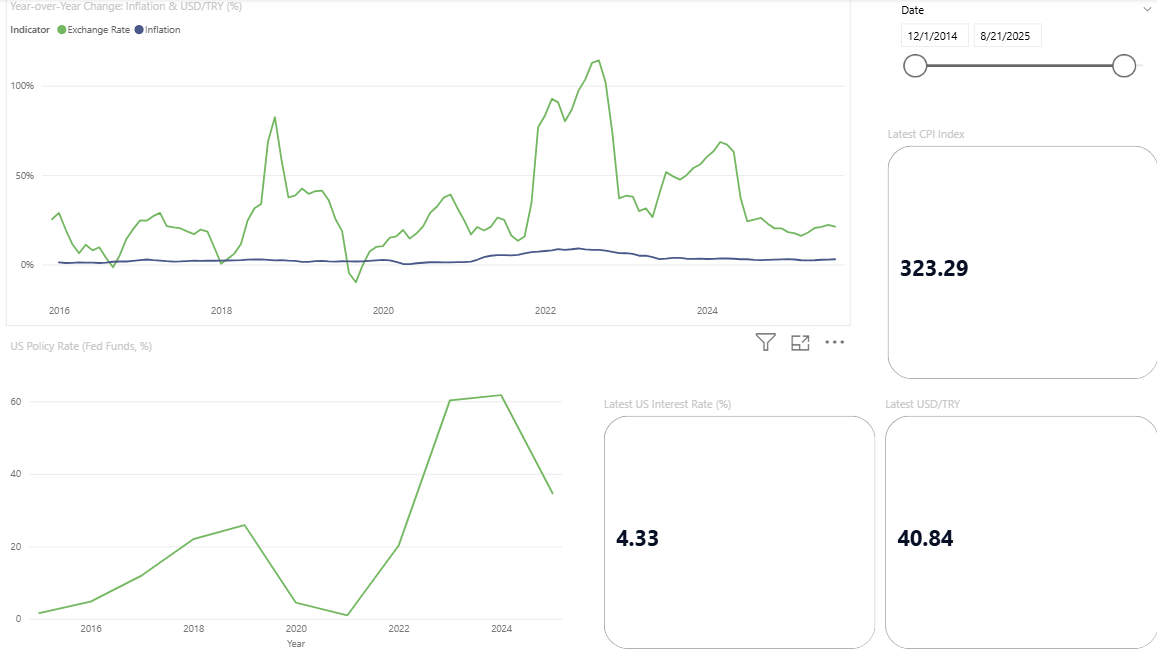

This screenshot's page, from the dashboard's own definition file:
{"tool":"powerbi","page":{"name":"Overview","canvas":[1280,720],"ordinal":0},"visuals":[{"type":"lineChart","title":"Year-over-Year Change: Inflation & USD/TRY (%)","fields":{"Series":["market_data.Indicator"],"Category":["DimDate.Date"],"Y":["market_data.YoY %"]},"box":[9.6,0,927.6,359.5],"z":0},{"type":"lineChart","title":"US Policy Rate (Fed Funds, %)","fields":{"Category":["DimDate.Date.Variation.Date Hierarchy.Year","DimDate.Date.Variation.Date Hierarchy.Quarter","DimDate.Date.Variation.Date Hierarchy.Month","DimDate.Date.Variation.Date Hierarchy.Day"],"Y":["market_data.Total Value"]},"box":[9.6,373.2,617.5,347.2],"z":1000},{"type":"cardVisual","title":"Latest USD/TRY","fields":{"Data":["market_data.Latest Value"]},"box":[969.9,437.3,310.1,282.7],"z":2000},{"type":"cardVisual","title":"Latest US Interest Rate (%)","fields":{"Data":["market_data.Latest Value"]},"box":[661.1,437.3,308.7,282.7],"z":3000},{"type":"cardVisual","title":"Latest CPI Index","fields":{"Data":["market_data.Latest Value"]},"box":[972.9,141.3,307.4,282.7],"z":4000},{"type":"slicer","fields":{"Values":["DimDate.Date"]},"box":[979.2,0,300.8,126.9],"z":5000}]}

Visuals, with their boxes in screenshot pixels (x1, y1, x2, y2), scaled from the page's 1280x720 canvas onto the 1157x652 screenshot:
"Year-over-Year Change: Inflation & USD/TRY (%)" lineChart: Rect(9, 0, 847, 326)
"US Policy Rate (Fed Funds, %)" lineChart: Rect(9, 338, 567, 651)
"Latest USD/TRY" cardVisual: Rect(877, 396, 1156, 651)
"Latest US Interest Rate (%)" cardVisual: Rect(598, 396, 877, 651)
"Latest CPI Index" cardVisual: Rect(879, 128, 1156, 384)
slicer - DimDate.Date: Rect(885, 0, 1156, 115)
